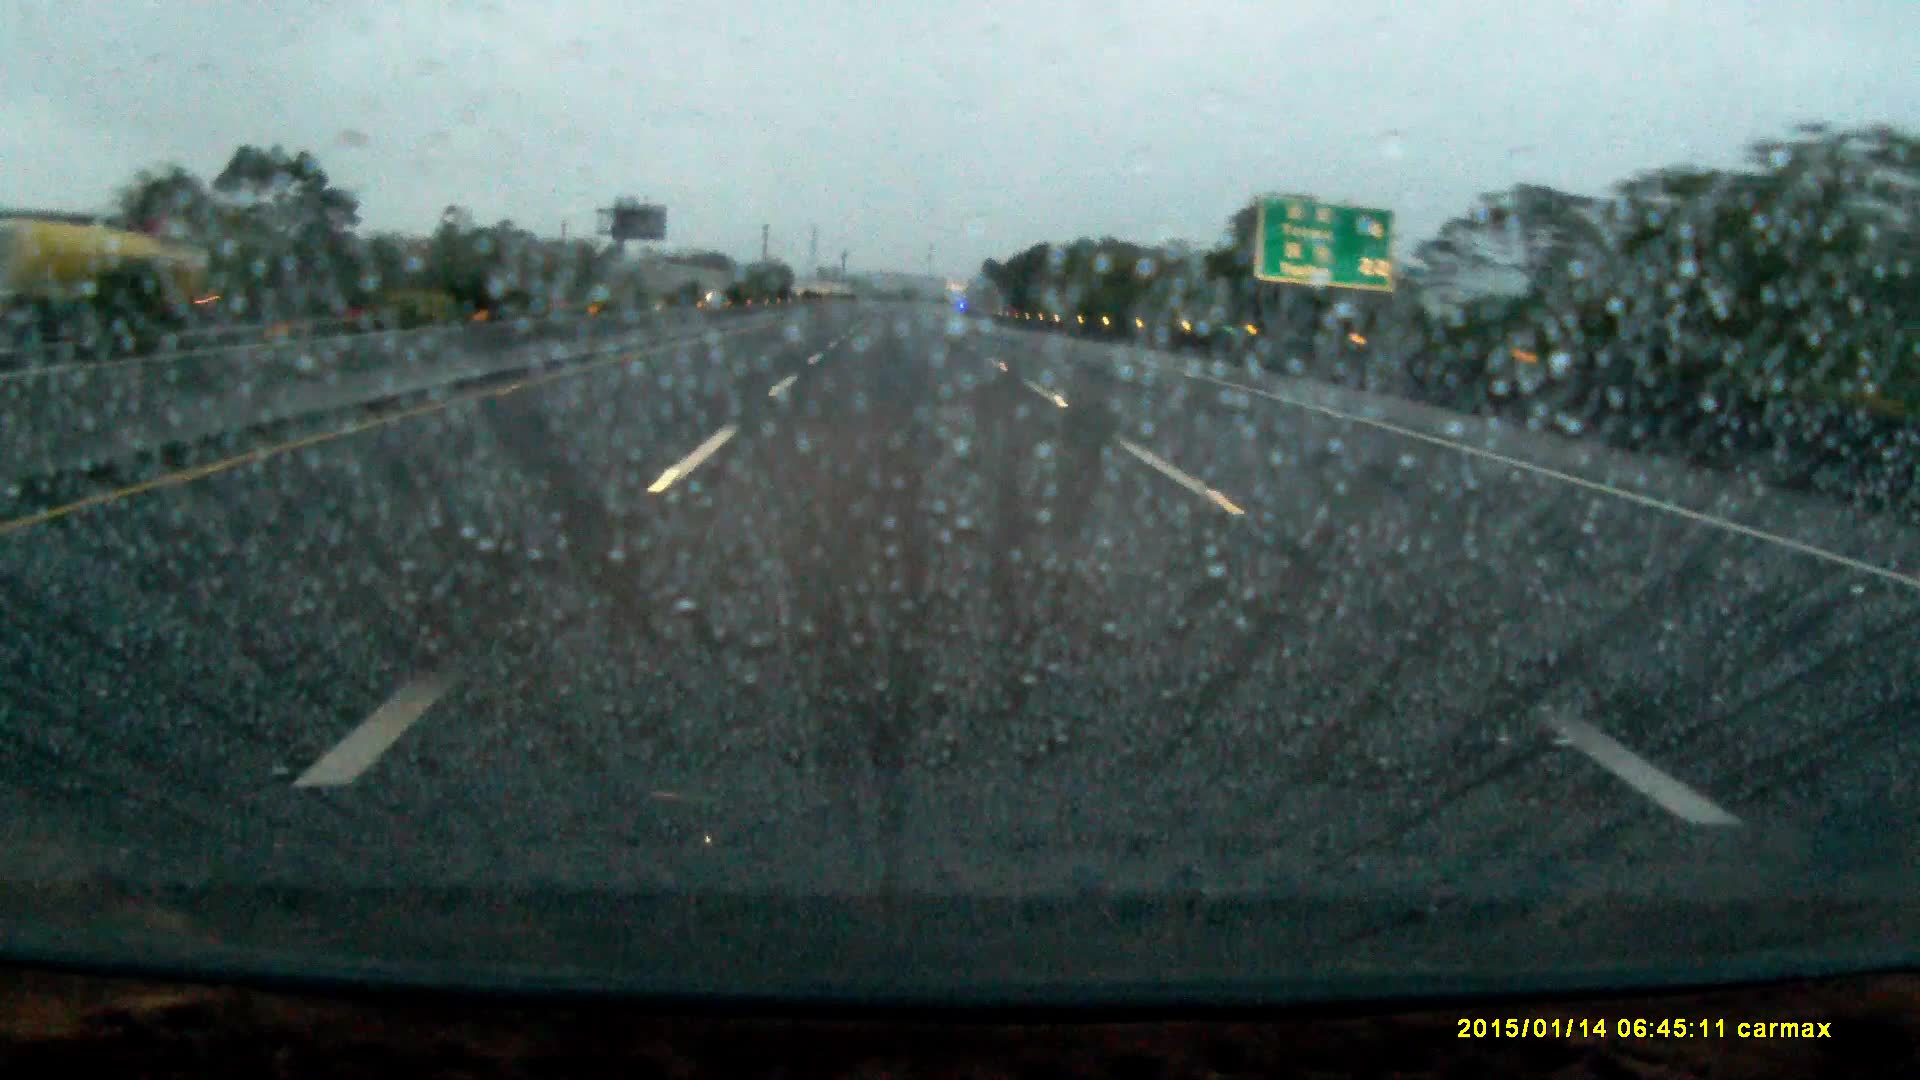vehicle: (21, 233, 195, 338)
